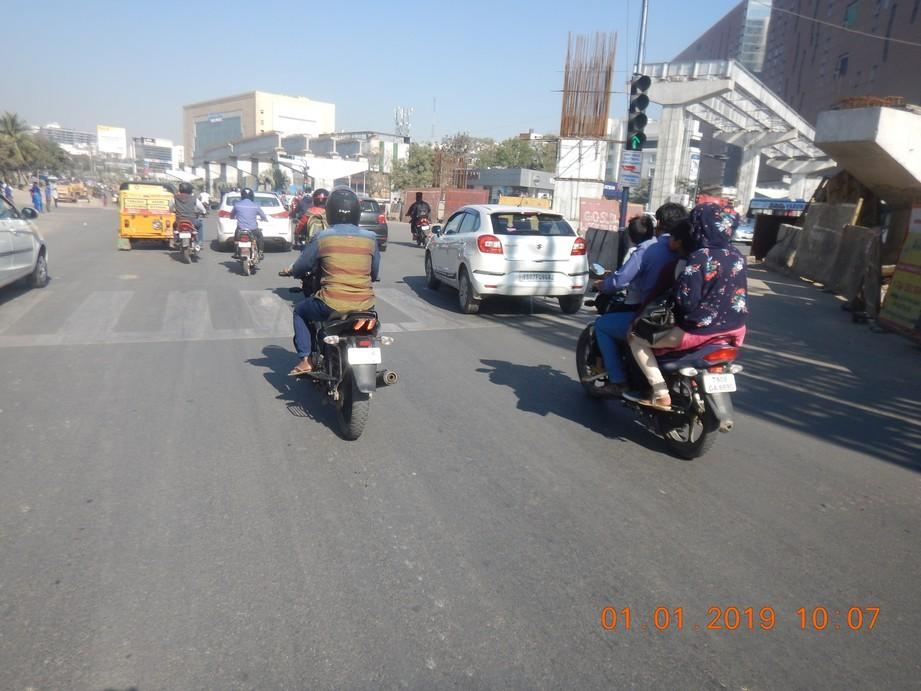plate: (702, 373, 737, 394)
